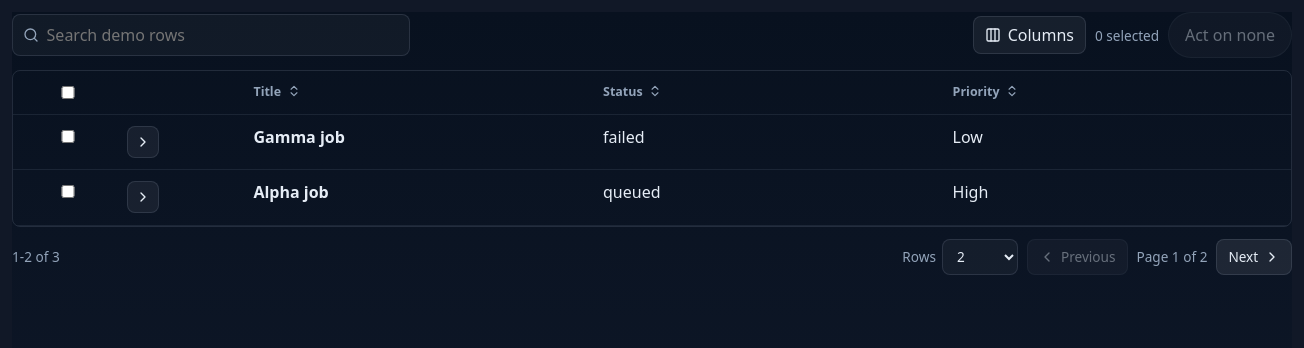
Scenario: ConsoleTable › changes page size and exposes selected rows to toolbar actions
The image size is (1304, 348).
Select "10" in the dropdown named "Rows per page". click: (980,257)
box: top-left (942, 238), bottom-right (1018, 275)
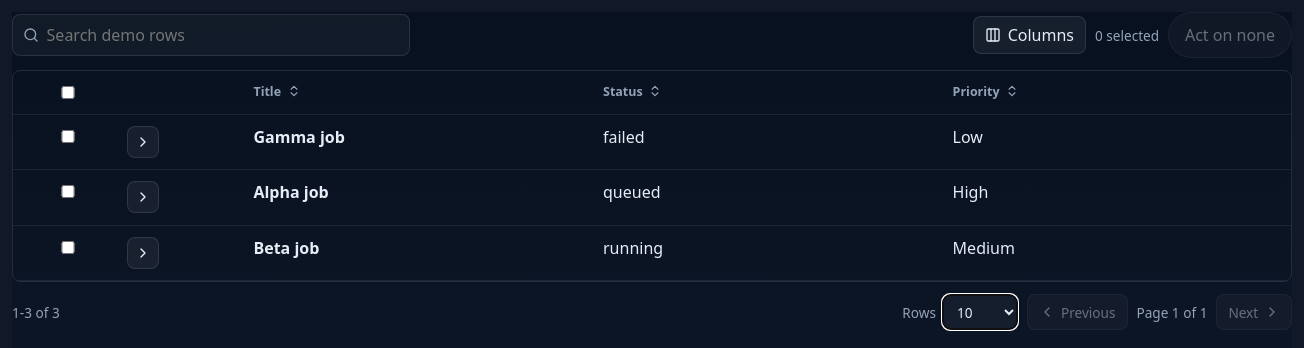
Expected: the button "Act on none" is disabled, top-left (1168, 12), bottom-right (1292, 58)
Expected: the text "Beta job" is shown, top-left (253, 237), bottom-right (319, 259)
Expected: the text "1-3 of 3" is shown, top-left (12, 303), bottom-right (60, 322)
Click the checkbox named "Select row alpha". click: (68,192)
box: top-left (28, 185), bottom-right (108, 198)
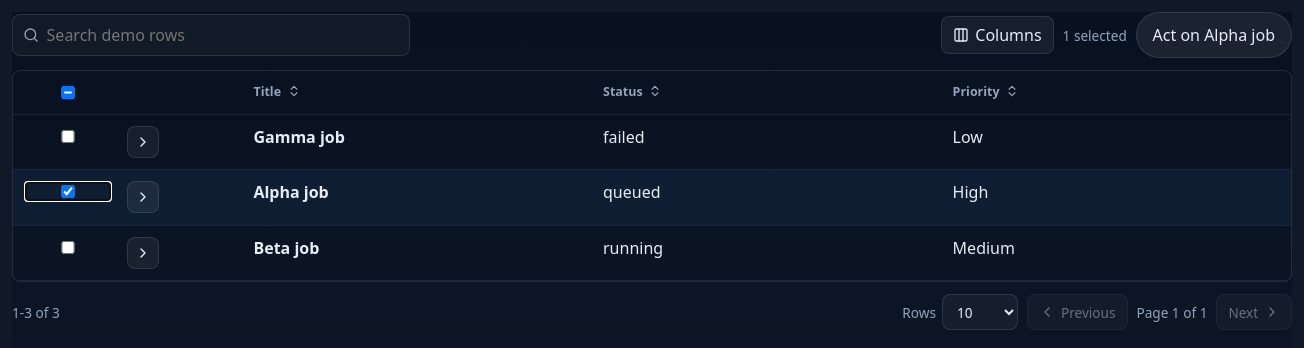
Expected: the button "Act on Alpha job" is enabled, top-left (1136, 12), bottom-right (1292, 58)
